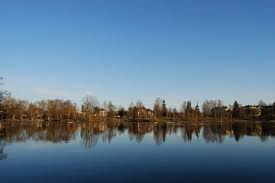forest: (6, 96, 275, 119)
lake: (3, 119, 275, 181)
sky: (1, 1, 274, 100)
